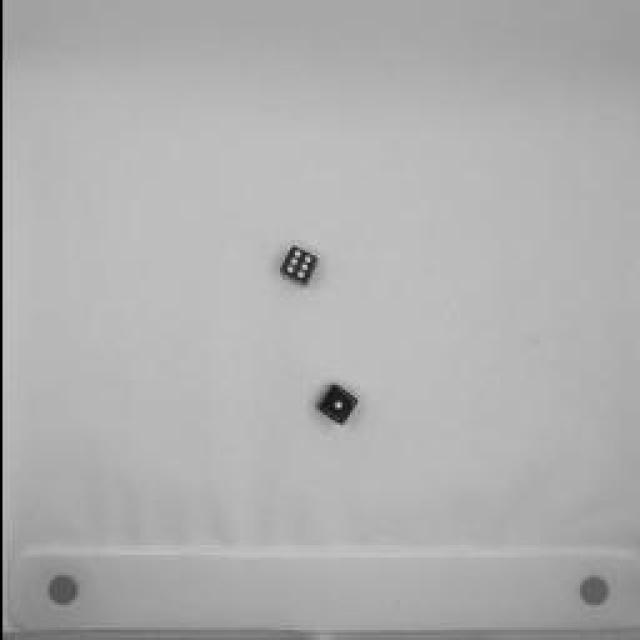dice_1: (309, 380, 366, 438)
dice_6: (274, 241, 326, 294)
